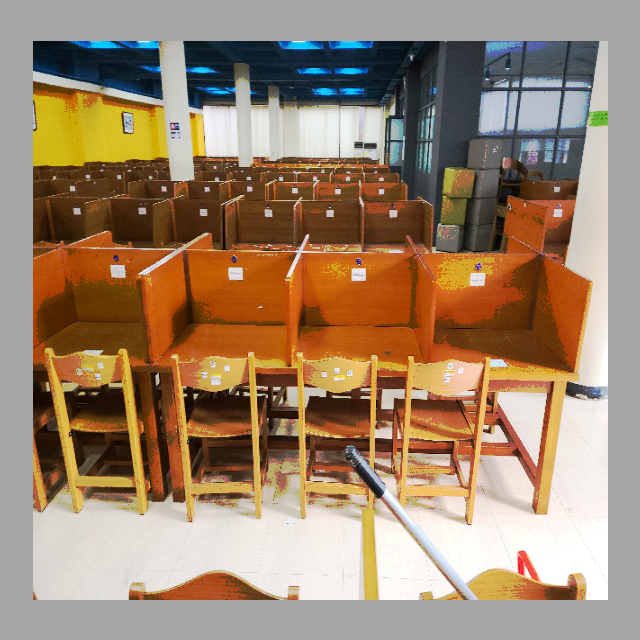empty: (440, 246, 595, 419), (293, 242, 432, 420), (155, 244, 287, 423)
